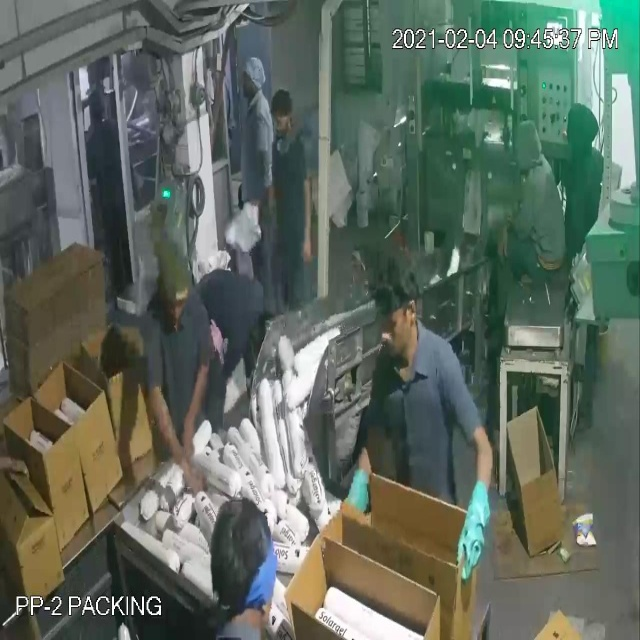Guantes: (450, 451, 495, 604), (343, 417, 384, 525)
Sin_guantes: (147, 372, 198, 493), (182, 354, 214, 469), (293, 161, 314, 282), (494, 216, 519, 279)
